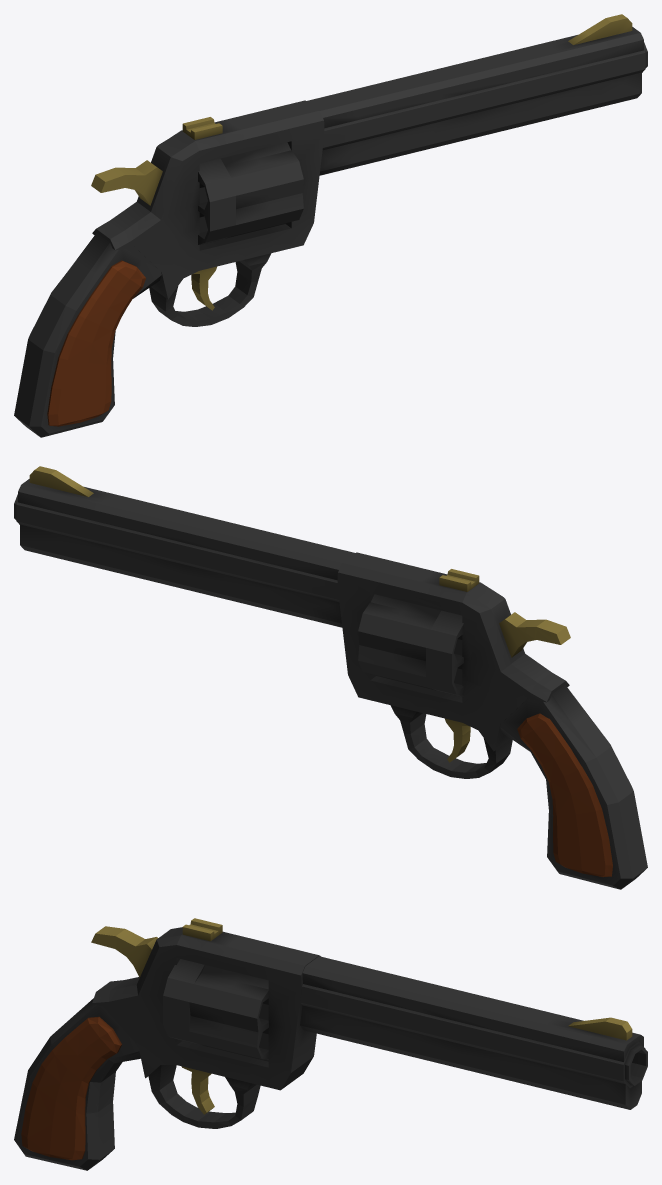
Rendered from v-revolver-b-long.glb.
The picture shows the model from 3 angles, top to bottom: view 1: azimuth 30°, elevation 25°; view 2: azimuth 150°, elevation 25°; view 3: azimuth 330°, elevation 25°; orthographic projection.
Parts seen in each view (by area): view 1: body; view 2: body; view 3: body.
Part boxes in pixels (x1=…): body: x1=14, y1=14, x2=647, y2=437; body: x1=14, y1=466, x2=647, y2=889; body: x1=14, y1=918, x2=647, y2=1170.
Bounding box in the file's own units: 0.286 × 0.1204 × 0.0376.
